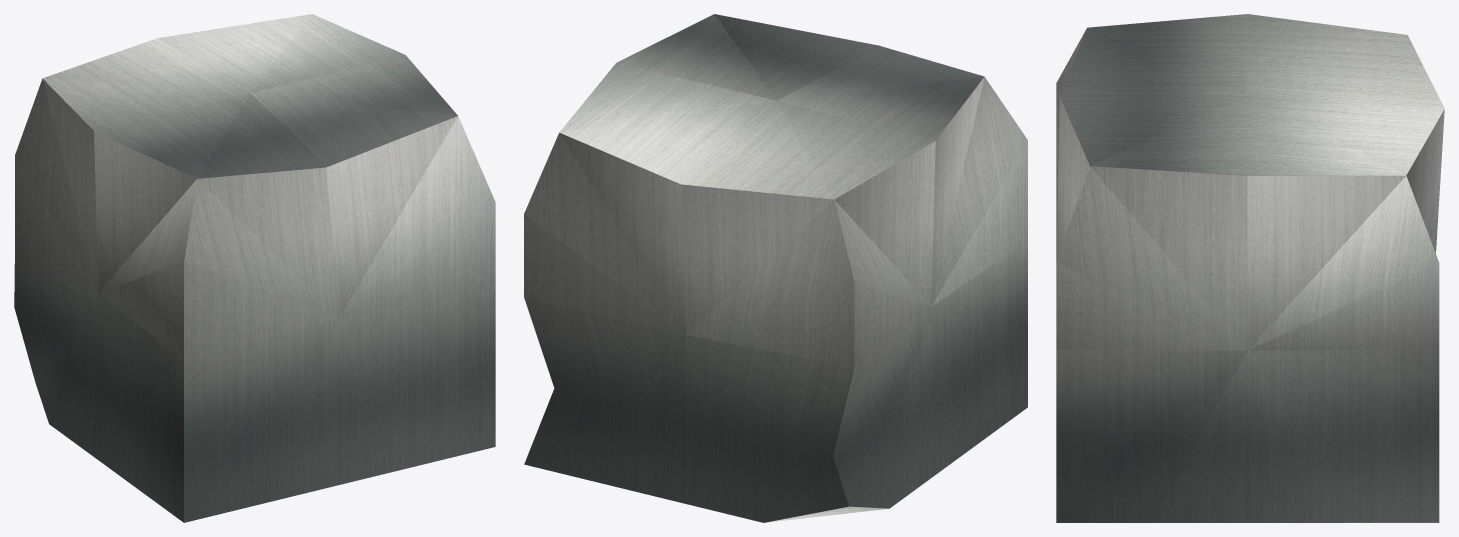
Rendered from MagnetObject.fbx.
The picture shows the model from 3 angles, left to right: view 1: azimuth 30°, elevation 25°; view 2: azimuth 150°, elevation 25°; view 3: azimuth 270°, elevation 25°; orthographic projection. The views are drawn at different scales.
Visible parts, largest first — view 1: Box001; view 2: Box001; view 3: Box001.
Part boxes in pixels (x1,y1,x2,y2): Box001: (14,14,495,522); Box001: (524,14,1027,522); Box001: (1056,14,1444,522).
Size of the model in its own units: 129 by 129 by 127.
